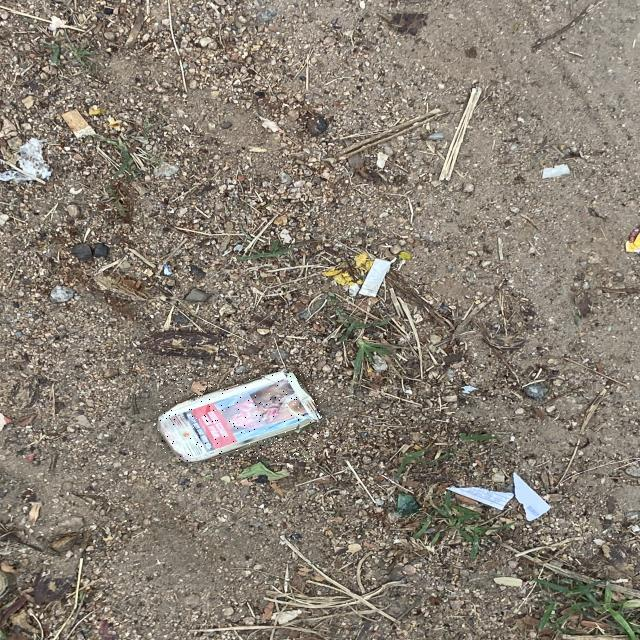paper: (158, 371, 321, 462)
